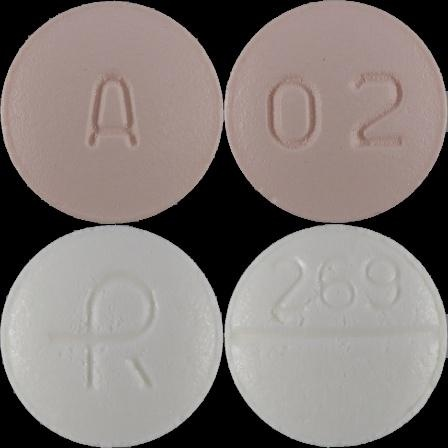76237-296: (0, 0, 224, 224)
